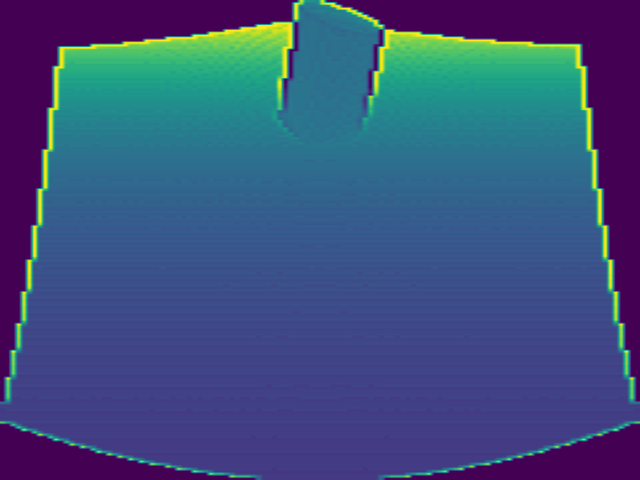cylinder: (275, 1, 386, 146)
